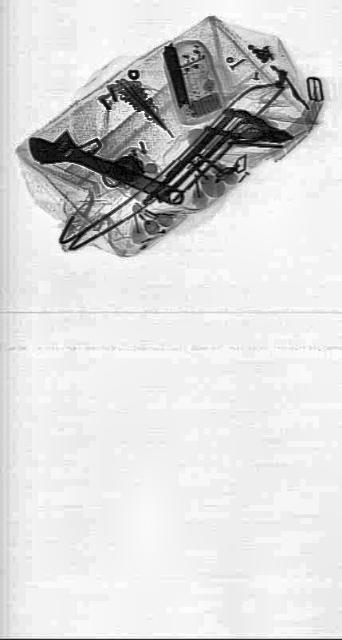Pliers: (220, 104, 294, 154)
Wrench: (26, 118, 186, 215)
